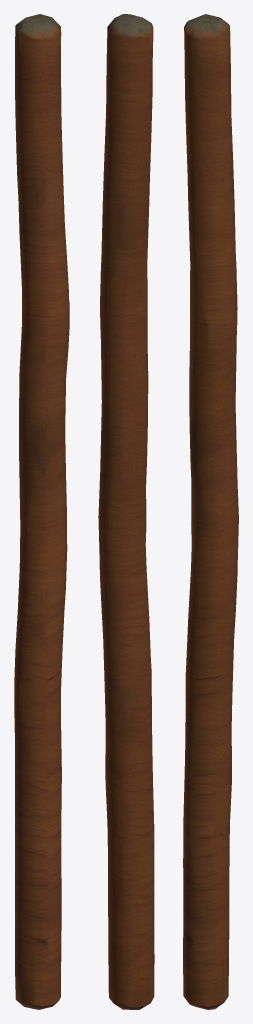
File: wpn_stick.glb
3 views of the same model, side by side, from view 1: azimuth 30°, elevation 25°; view 2: azimuth 150°, elevation 25°; view 3: azimuth 330°, elevation 25° (orthographic).
Bounding box in the file's own units: 0.099 × 1.91 × 0.0896.
Materials: 1 (1 with a texture image).
